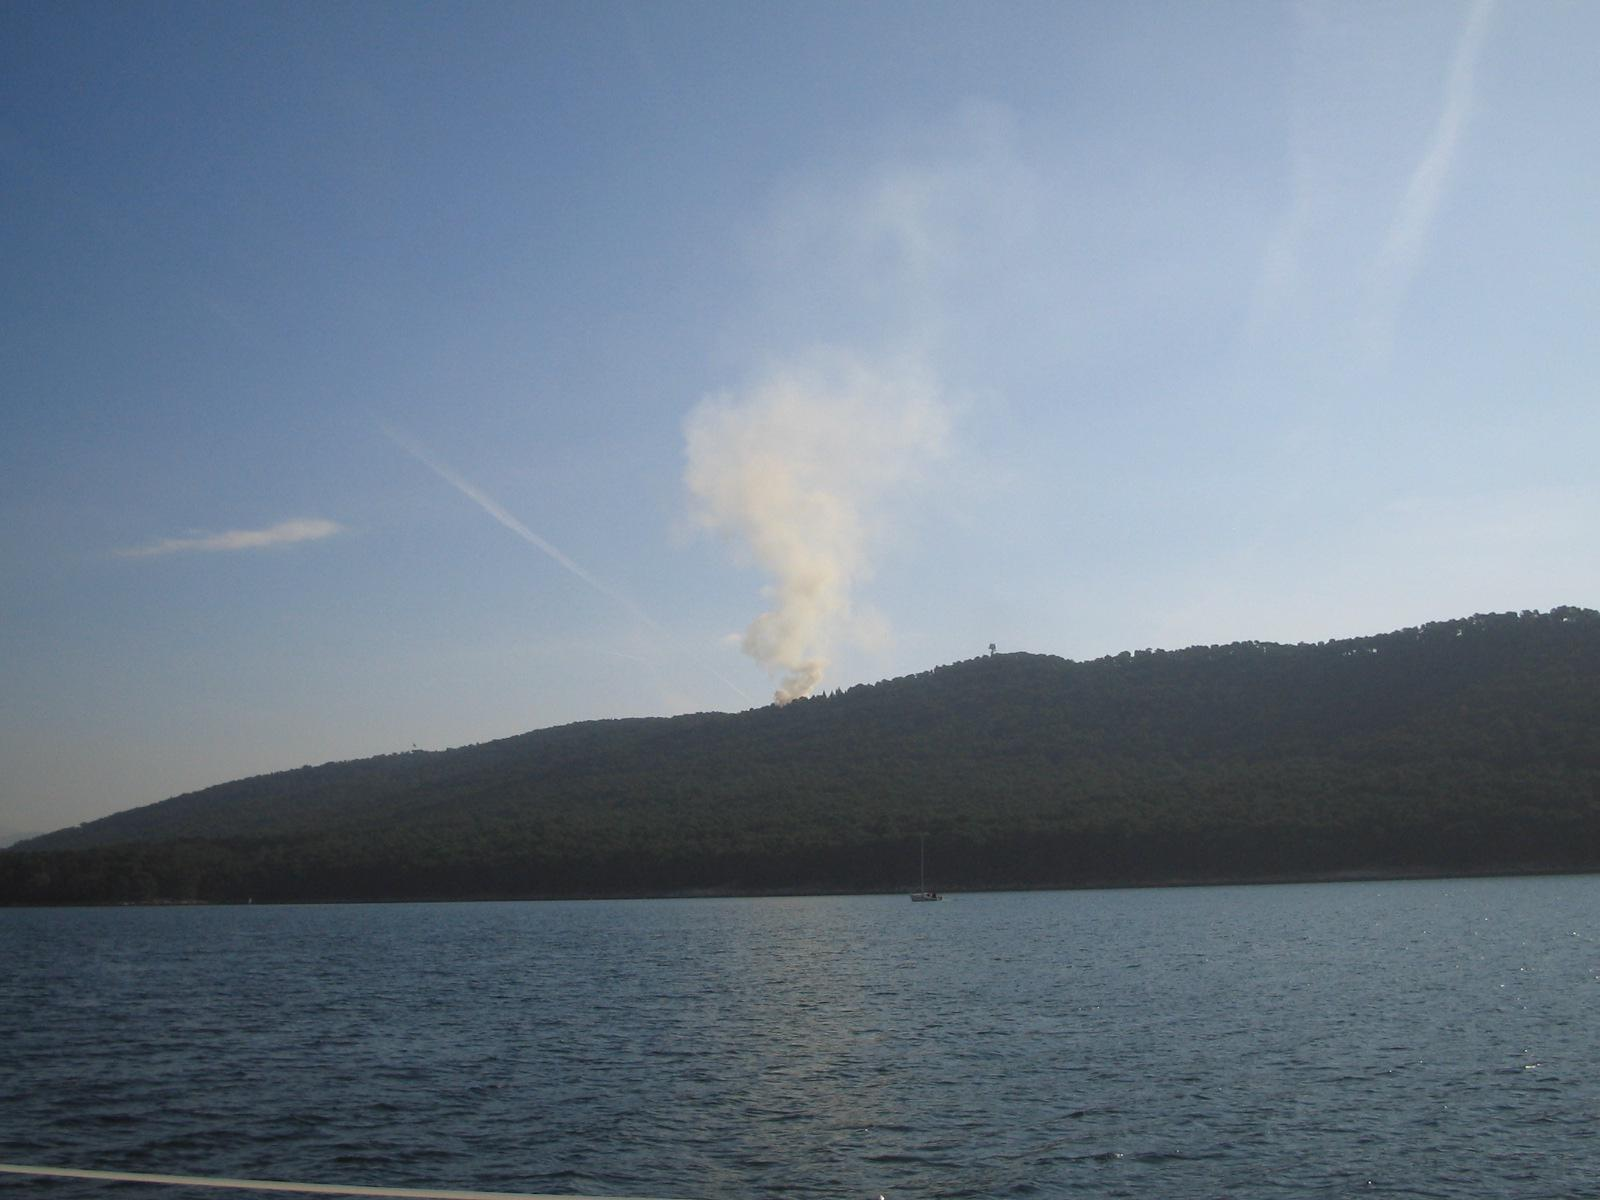Smoke: (660, 236, 918, 707)
